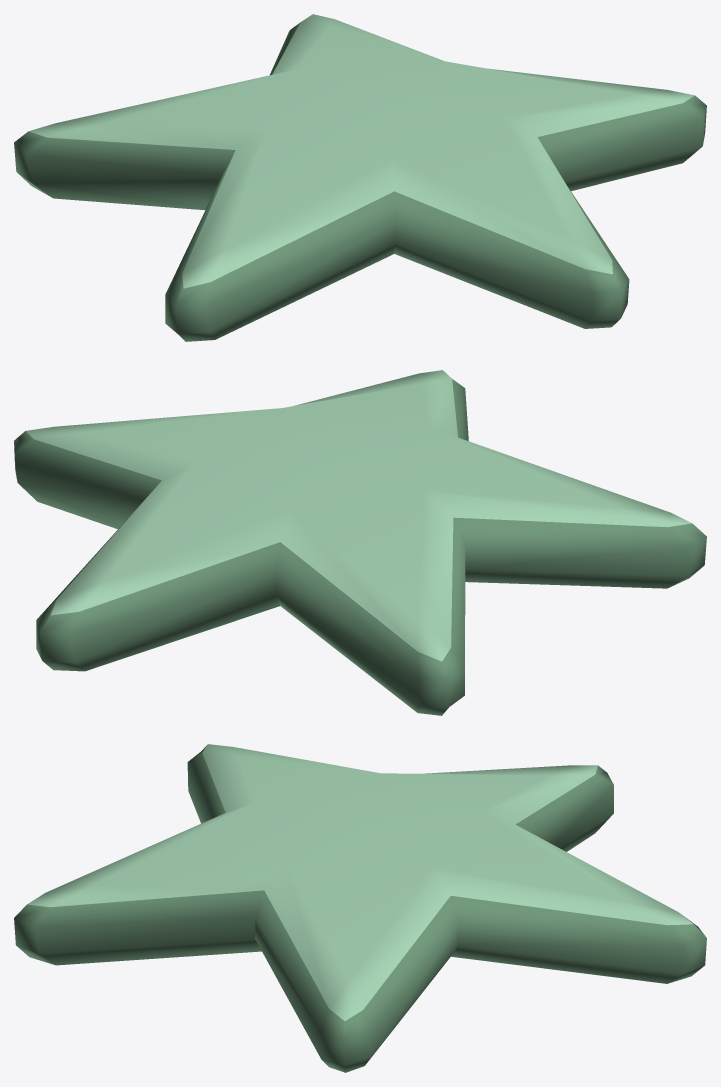
Rendered from SM_Starfish_003.fbx.
3 views of the same model, one above another, from view 1: azimuth 30°, elevation 25°; view 2: azimuth 150°, elevation 25°; view 3: azimuth 270°, elevation 25° (orthographic). The views are drawn at different scales.
Parts seen in each view (by area): view 1: Starfish_003; view 2: Starfish_003; view 3: Starfish_003.
Boxes of the visible parts, x1,y1,x2,y2 form: Starfish_003: (14,14,706,341); Starfish_003: (14,370,706,715); Starfish_003: (14,744,706,1072).
Bounding box in the file's own units: 45.51 × 9.64 × 46.31.
1 material, 1 textured.
